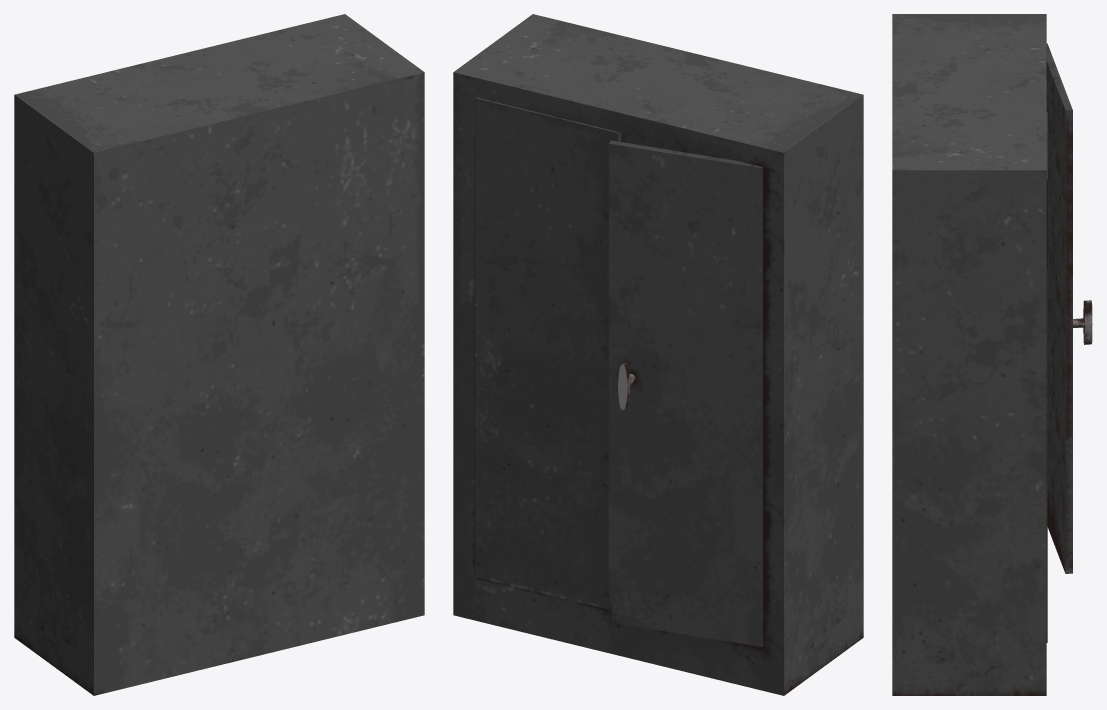
File: Interative Metal Locker.fbx
3 views of the same model, side by side, from view 1: azimuth 30°, elevation 25°; view 2: azimuth 150°, elevation 25°; view 3: azimuth 270°, elevation 25° (orthographic). The views are drawn at different scales.
Parts seen in each view (by area): view 1: Cube.004; view 2: Cube.004, Cube.006; view 3: Cube.004, Cube.006.
Part boxes in pixels (<box>): Cube.004: <box>14,14,424,695</box>; Cube.004: <box>453,14,863,695</box>; Cube.006: <box>608,140,762,646</box>; Cube.004: <box>892,14,1047,695</box>; Cube.006: <box>1046,43,1092,573</box>.
Bounding box in the file's own units: 130 × 204 × 70.25.
